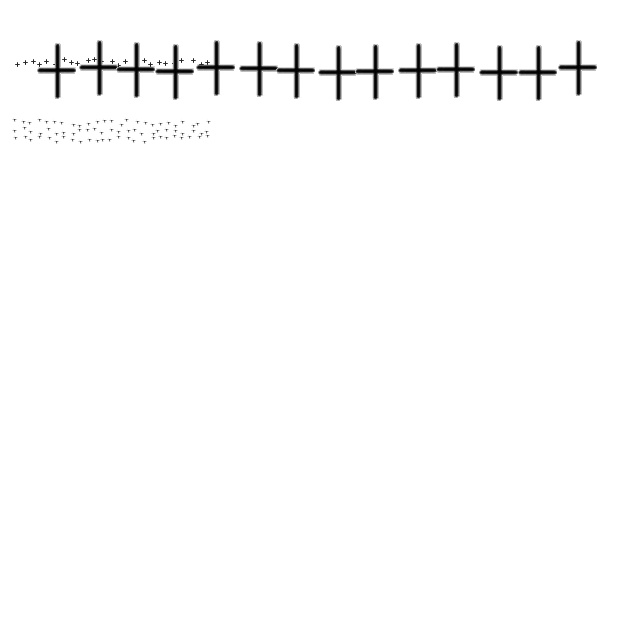double: (76, 40, 120, 98), (113, 42, 157, 100), (152, 44, 196, 102), (193, 40, 237, 98), (352, 44, 396, 102), (433, 42, 477, 100), (555, 40, 599, 98), (34, 44, 78, 100), (236, 42, 280, 98), (273, 44, 317, 100), (315, 46, 359, 102), (395, 44, 439, 100), (476, 46, 520, 102), (515, 46, 559, 102), (86, 58, 92, 64), (142, 58, 148, 64), (148, 62, 154, 68), (102, 118, 108, 124), (150, 122, 156, 128), (166, 120, 172, 126), (12, 128, 18, 134), (46, 126, 52, 132), (92, 126, 98, 132), (126, 128, 132, 134), (116, 134, 122, 140), (158, 134, 164, 140), (16, 62, 20, 68), (24, 60, 28, 66), (38, 62, 42, 68), (44, 60, 50, 64), (54, 62, 58, 68), (62, 58, 68, 62), (70, 60, 74, 66), (92, 58, 98, 62), (110, 60, 116, 64), (116, 64, 122, 68), (134, 64, 140, 68), (158, 60, 162, 66), (172, 62, 178, 66), (180, 58, 184, 64), (192, 58, 196, 64), (200, 62, 204, 68), (206, 60, 210, 66), (12, 118, 18, 122), (28, 120, 32, 126), (44, 120, 50, 124), (52, 120, 58, 124), (60, 120, 64, 126), (72, 122, 76, 128), (86, 122, 92, 126), (110, 118, 114, 124), (120, 122, 124, 128), (124, 118, 130, 122), (144, 120, 148, 126), (158, 122, 164, 126), (180, 120, 186, 124), (206, 120, 212, 124), (22, 126, 28, 130), (28, 130, 34, 134), (38, 132, 44, 136), (54, 132, 60, 136), (62, 130, 66, 136), (100, 130, 104, 136), (116, 130, 122, 134), (132, 128, 138, 132), (156, 128, 160, 134), (164, 128, 170, 132), (174, 128, 178, 134), (180, 132, 186, 136), (192, 128, 196, 134), (204, 130, 210, 134), (24, 134, 28, 140), (28, 138, 34, 142), (38, 134, 42, 140), (54, 140, 60, 144), (62, 134, 66, 140), (70, 138, 76, 142), (78, 140, 84, 144), (96, 138, 100, 144), (100, 138, 106, 142), (126, 136, 132, 140), (132, 138, 136, 144), (142, 140, 148, 144), (164, 136, 170, 140), (172, 134, 178, 138), (188, 134, 192, 140), (198, 134, 202, 140), (32, 60, 36, 64), (76, 62, 80, 66), (100, 60, 104, 64), (124, 60, 128, 64), (164, 62, 168, 66), (22, 120, 26, 124), (38, 118, 42, 122), (78, 124, 82, 128), (96, 120, 100, 124), (136, 120, 140, 124), (174, 124, 178, 128), (192, 124, 196, 128), (196, 122, 200, 126), (72, 132, 76, 136), (78, 128, 82, 132), (86, 128, 90, 132), (110, 128, 114, 132), (140, 132, 144, 136), (152, 132, 156, 136), (200, 132, 204, 136), (14, 136, 18, 140), (48, 136, 52, 140), (88, 138, 92, 142), (108, 138, 112, 142), (152, 136, 156, 140), (180, 136, 184, 140), (206, 134, 210, 138)
